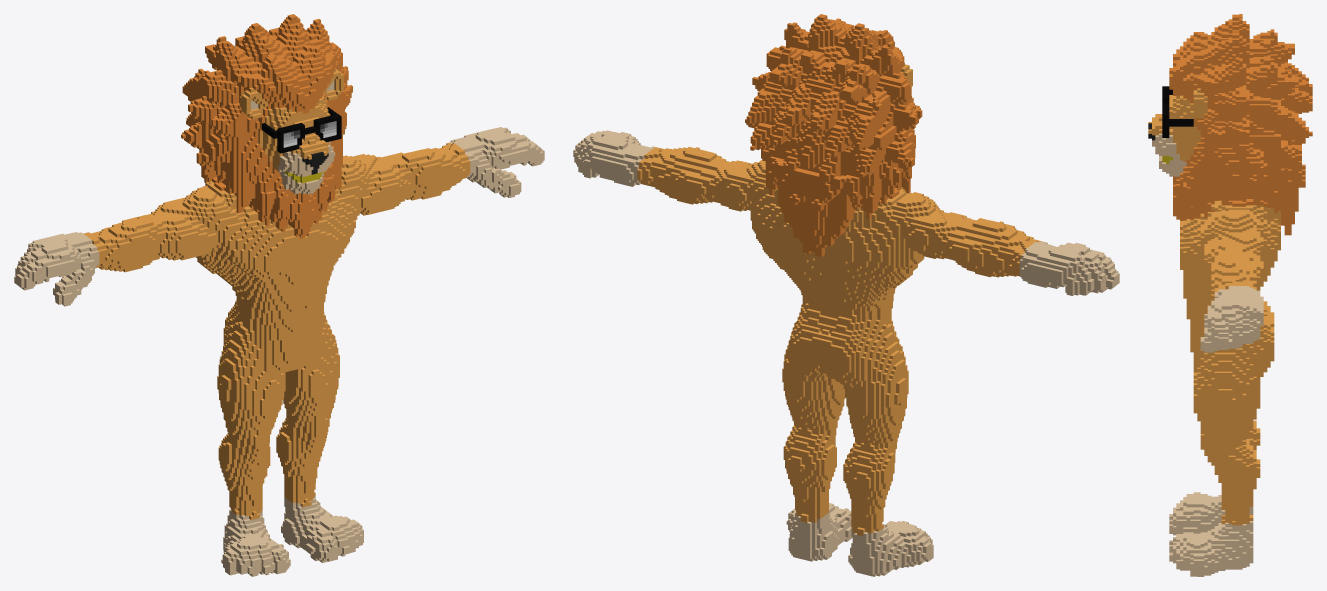
File: 624-CinY6mrS.glb
3 renders of one model, left to right at view 1: azimuth 30°, elevation 25°; view 2: azimuth 150°, elevation 25°; view 3: azimuth 270°, elevation 25°, orthographic. The views are drawn at different scales.
Visible parts, largest first — view 1: gold_smile; view 2: gold_smile; view 3: gold_smile.
Boxes of the visible parts, x1,y1,x2,y2 form: gold_smile: [14, 14, 544, 576]; gold_smile: [573, 14, 1119, 576]; gold_smile: [1148, 14, 1312, 576].
Bounding box in the file's own units: 17.2 × 16.5 × 4.7.
Materials: 4 (4 with a texture image).
